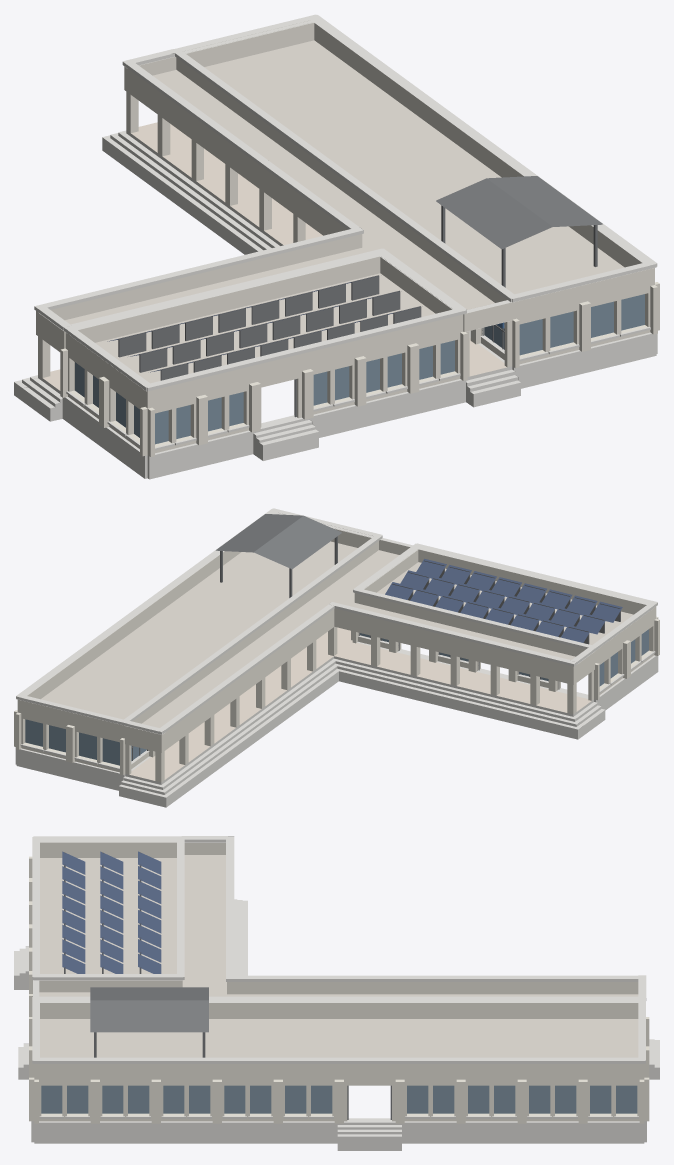
The model's file is Vipanan.fbx.
The picture shows the model from 3 angles, top to bottom: view 1: azimuth 30°, elevation 25°; view 2: azimuth 150°, elevation 25°; view 3: azimuth 270°, elevation 25°; orthographic projection. The views are drawn at different scales.
Visible parts, largest first — view 1: Vipanan; view 2: Vipanan; view 3: Vipanan.
Part boxes in pixels (left/top/right/bottom): Vipanan: left=14, top=14, right=659, bottom=479; Vipanan: left=14, top=508, right=659, bottom=807; Vipanan: left=14, top=836, right=659, bottom=1150.
Bounding box in the file's own units: 34.19 × 7.4 × 39.19.
